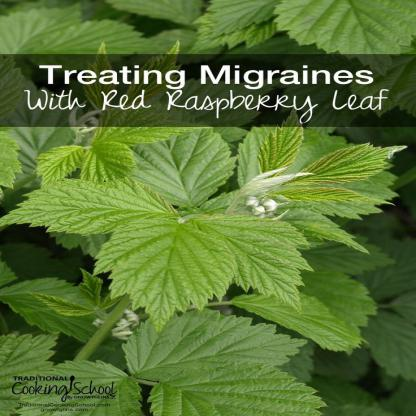raspberry leaf: (92, 211, 315, 339), (1, 173, 178, 238), (282, 140, 412, 187), (271, 182, 391, 213), (257, 104, 308, 174)
